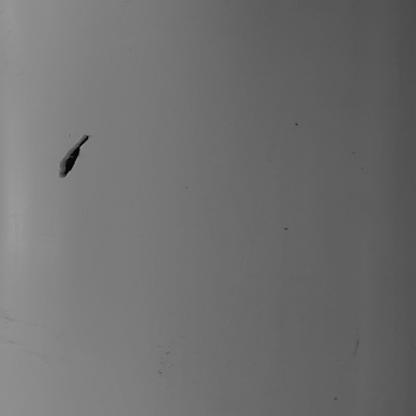kongdong: (57, 132, 92, 180)
